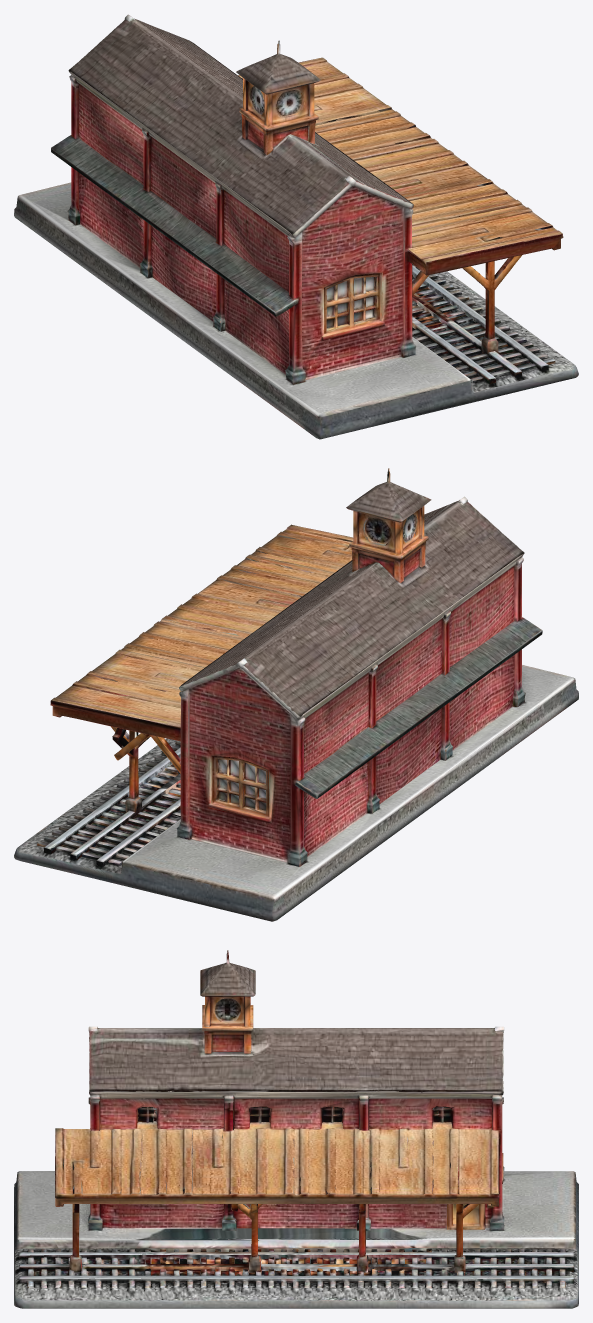
The model's file is station.glb.
3 renders of one model, top to bottom at view 1: azimuth 30°, elevation 25°; view 2: azimuth 150°, elevation 25°; view 3: azimuth 270°, elevation 25°, orthographic. The views are drawn at different scales.
Parts seen in each view (by area): view 1: station; view 2: station; view 3: station.
Boxes of the visible parts, bbox=[...] form: station: bbox=[14, 14, 578, 439]; station: bbox=[14, 468, 578, 921]; station: bbox=[14, 950, 578, 1308].
Bounding box in the file's own units: 0.9502 × 1 × 1.87.
1 material, 1 textured.
